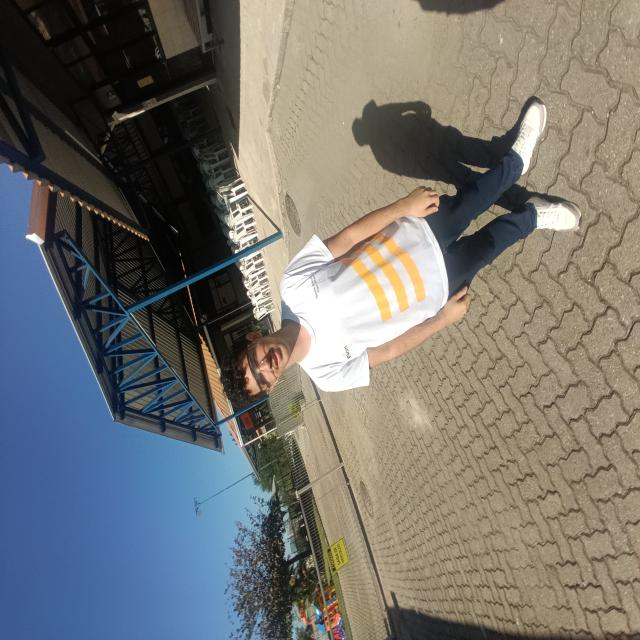oculos-epi: (245, 342, 275, 391)
